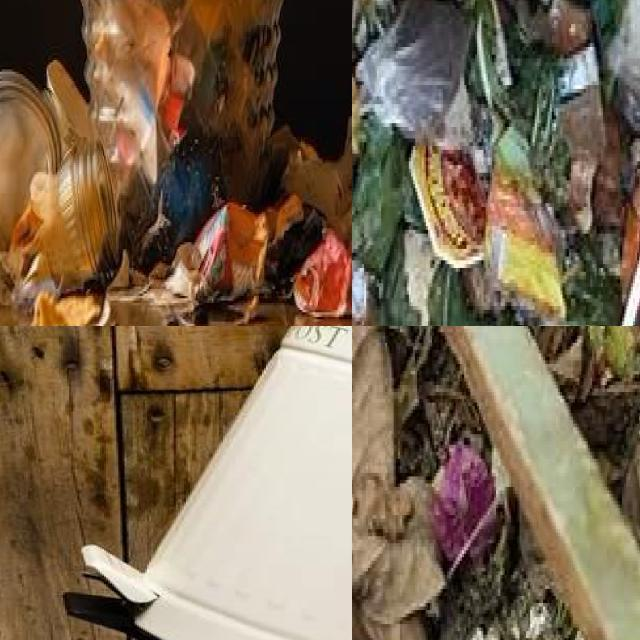Disposable: (0, 72, 61, 250), (57, 140, 119, 276)
Garbage: (0, 0, 352, 326), (352, 0, 640, 326), (352, 326, 640, 640)
Plastic_Bag: (356, 0, 472, 147)
Plastic_Container: (81, 0, 281, 259)
Plastic_wraper: (485, 124, 567, 321), (409, 144, 486, 268), (196, 200, 270, 300)
